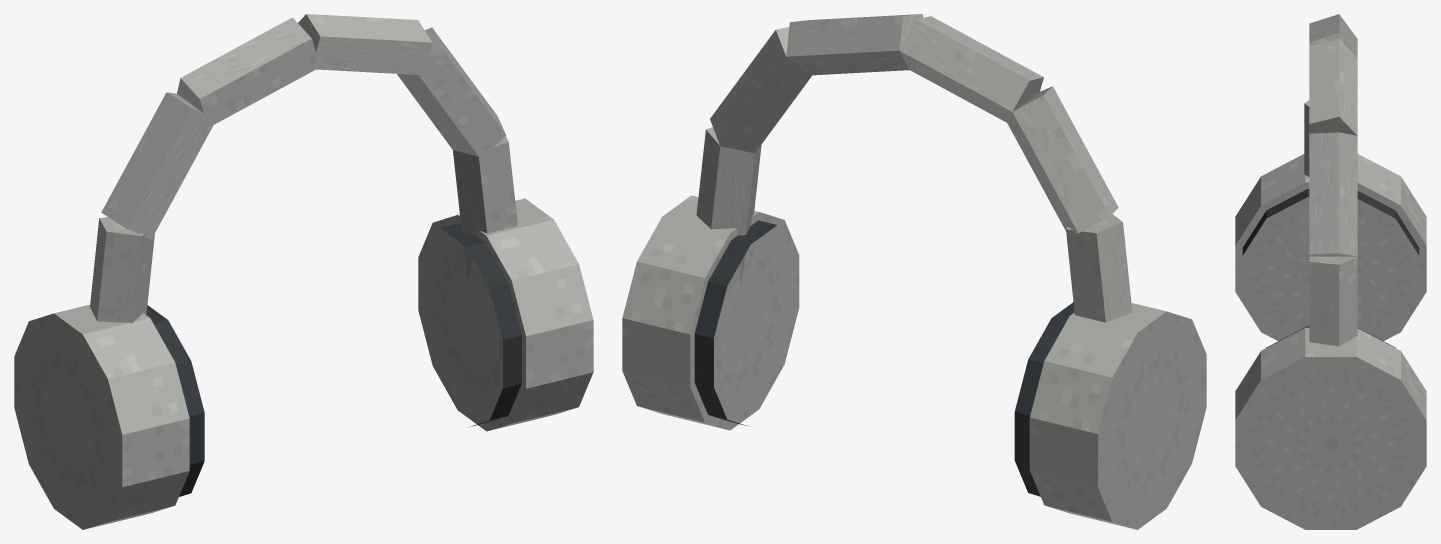
Rendered from headphones_circumaural.glb.
The picture shows the model from 3 angles, left to right: view 1: azimuth 30°, elevation 25°; view 2: azimuth 150°, elevation 25°; view 3: azimuth 270°, elevation 25°; orthographic projection. The views are drawn at different scales.
Visible parts, largest first — view 1: block_ear cup (×2), block_arched headband 1, block_arched headband 2, block_cushion (×2), block_arched headband 3, block_arched headband 4, block_arched headband 0, block_arched headband 5; view 2: block_ear cup (×2), block_arched headband 1, block_arched headband 2, block_cushion (×2), block_arched headband 3, block_arched headband 4, block_arched headband 0, block_arched headband 5; view 3: block_ear cup (×2), block_arched headband 4, block_arched headband 3, block_arched headband 5, block_cushion, block_arched headband 2, block_arched headband 0.
Boxes of the visible parts, bbox=[...] form: block_ear cup (×2): bbox=[14, 198, 593, 529]; block_arched headband 1: bbox=[101, 92, 216, 239]; block_arched headband 2: bbox=[177, 17, 319, 125]; block_cushion (×2): bbox=[146, 223, 521, 496]; block_arched headband 3: bbox=[298, 14, 432, 74]; block_arched headband 4: bbox=[397, 27, 506, 156]; block_arched headband 0: bbox=[90, 217, 154, 323]; block_arched headband 5: bbox=[453, 136, 517, 282]; block_ear cup (×2): bbox=[622, 195, 1206, 529]; block_arched headband 1: bbox=[1007, 86, 1118, 233]; block_arched headband 2: bbox=[899, 16, 1043, 122]; block_cushion (×2): bbox=[694, 220, 1074, 496]; block_arched headband 3: bbox=[786, 14, 923, 75]; block_arched headband 4: bbox=[710, 27, 812, 153]; block_arched headband 0: bbox=[1066, 214, 1132, 322]; block_arched headband 5: bbox=[696, 127, 761, 287]; block_ear cup (×2): bbox=[1235, 154, 1426, 529]; block_arched headband 4: bbox=[1309, 132, 1357, 256]; block_arched headband 3: bbox=[1309, 39, 1357, 135]; block_arched headband 5: bbox=[1309, 256, 1357, 346]; block_cushion: bbox=[1242, 189, 1419, 255]; block_arched headband 2: bbox=[1309, 14, 1357, 57]; block_arched headband 0: bbox=[1304, 100, 1309, 176].
Size of the model in its own units: 0.2284 by 0.2051 by 0.0905.
Materials: 1 (1 with a texture image).
